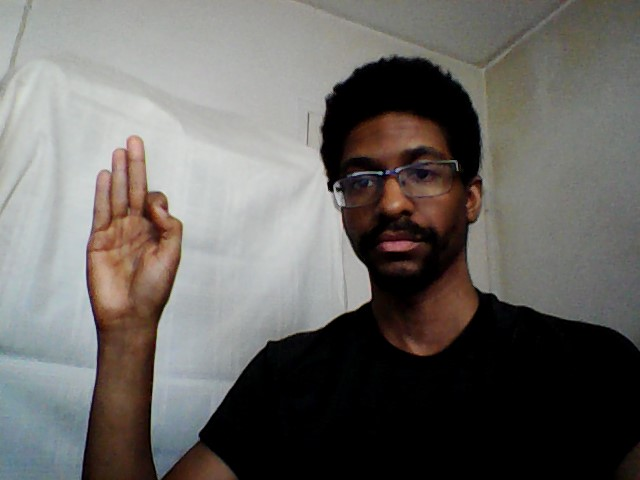f: (81, 124, 187, 332)
